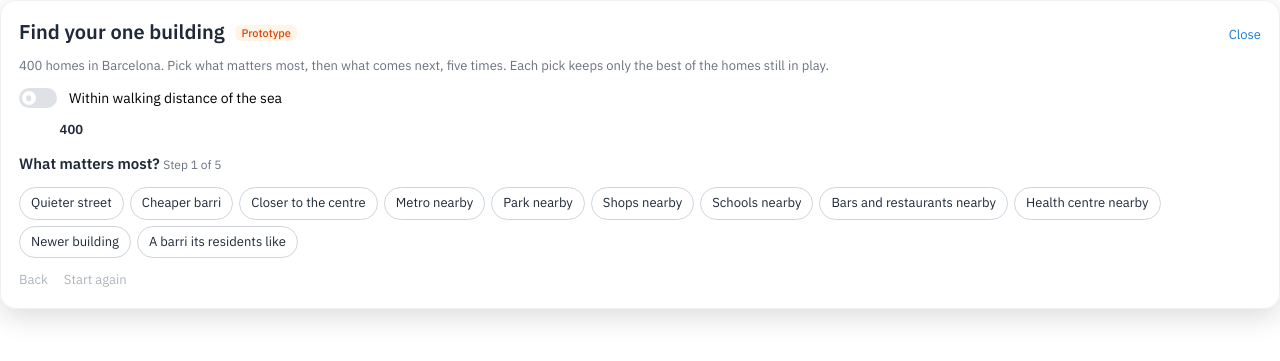
Test: FunnelPanel › Back drops the last pick, Start again drops them all
Click the button "Quieter street" at [71, 203], box [19,187,124,220]
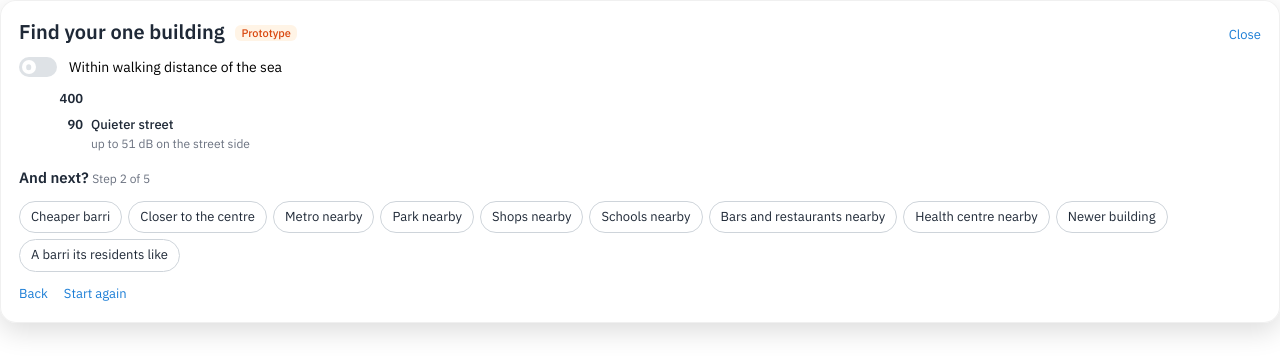
Click the button "Metro nearby" at [324, 217], box [273,201,374,233]
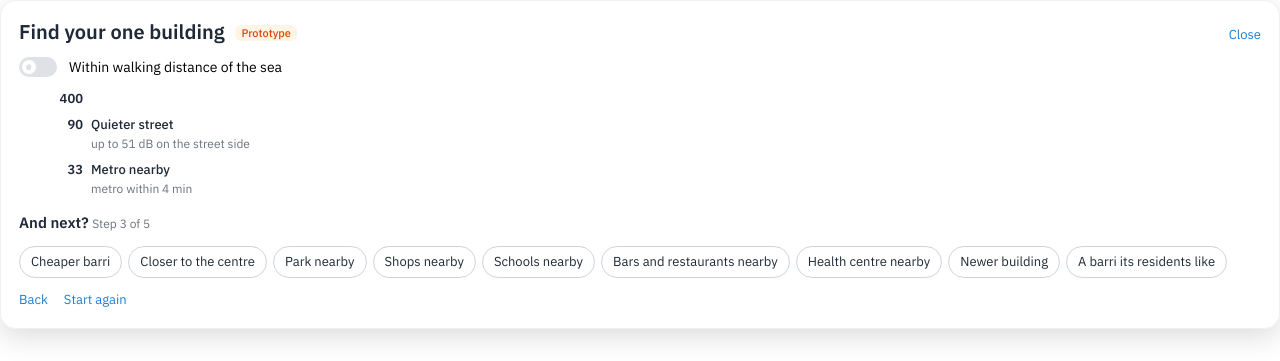
Click the button "Back" at [33, 300], box [19,290,48,310]
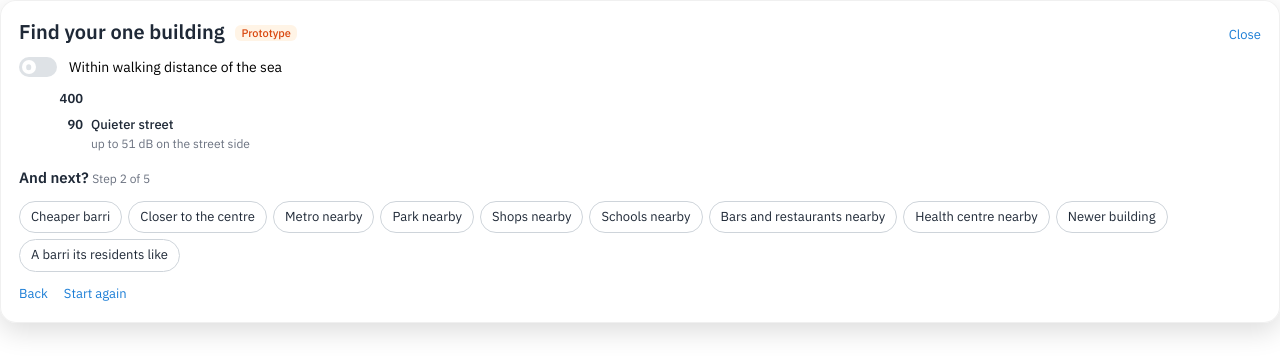
Click the button "Start again" at [95, 294], box [64,284,127,304]
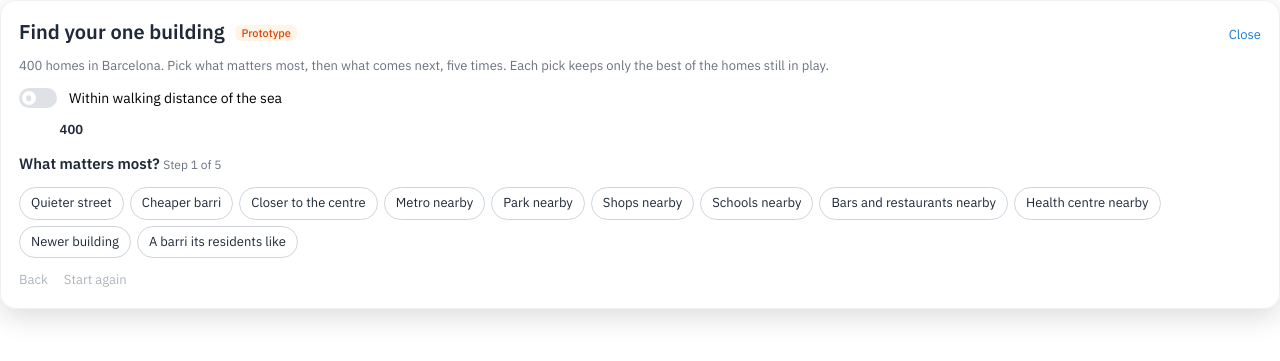
Expected: the text "What matters most?" is shown, [19,154,160,173]
